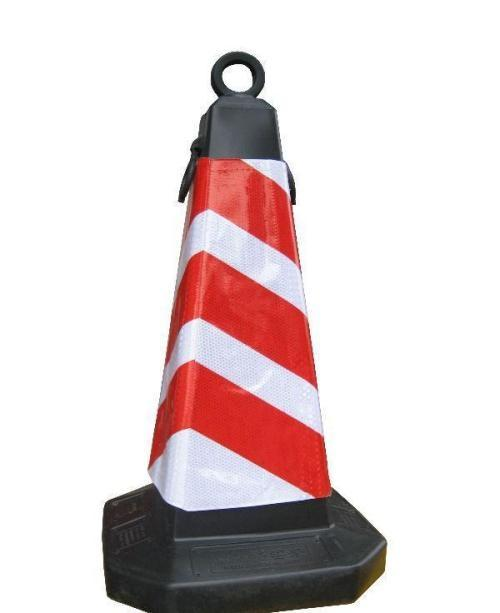cone_barrel: (123, 54, 384, 601)
